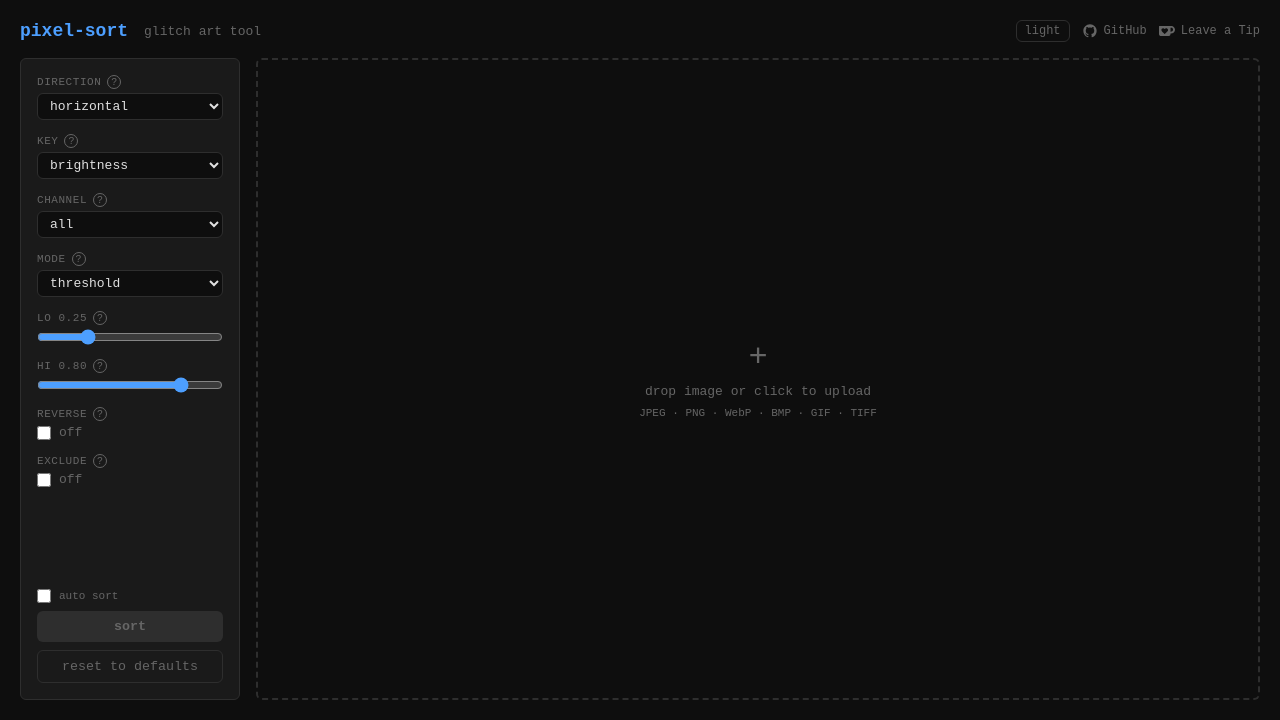
Test: PixelSorter — controls › shows lo/hi sliders only in threshold mode
The width and height of the screenshot is (1280, 720).
// switch to full — sliders gone
Select "full" in the dropdown showing "threshold" below "mode" at (130,284), box [37,270,223,297]
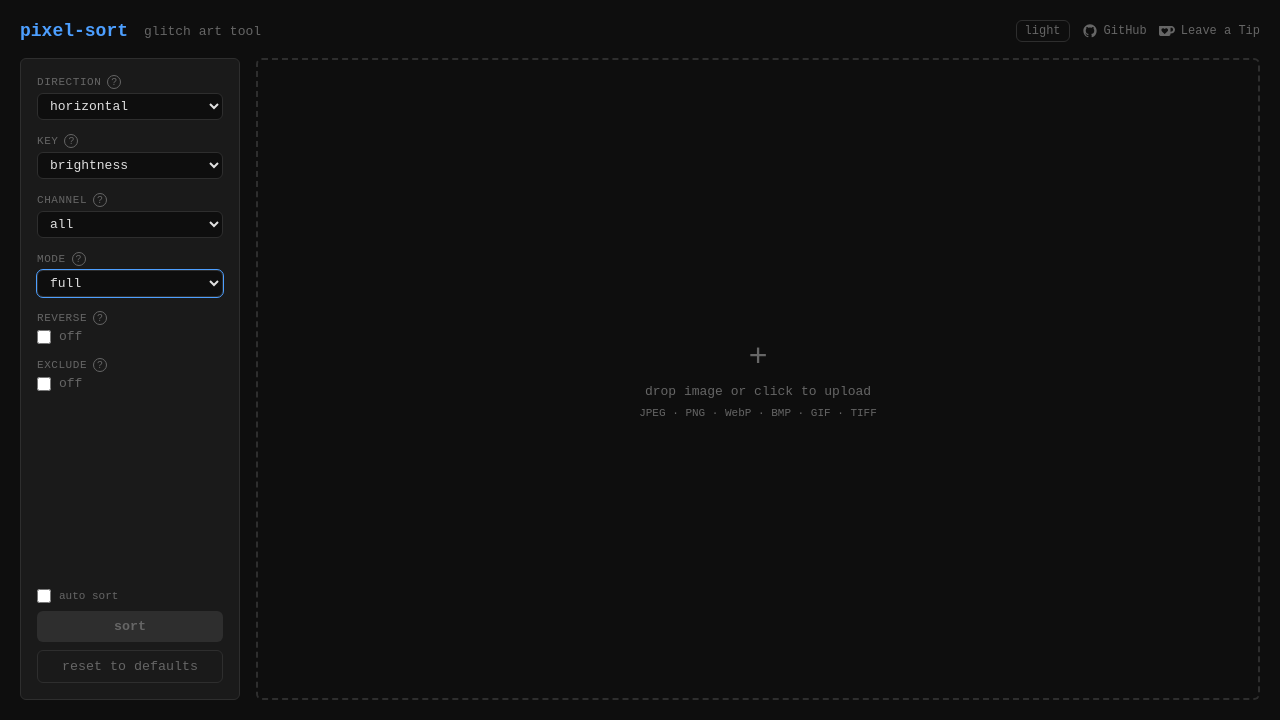
Expected: the slider is gone
